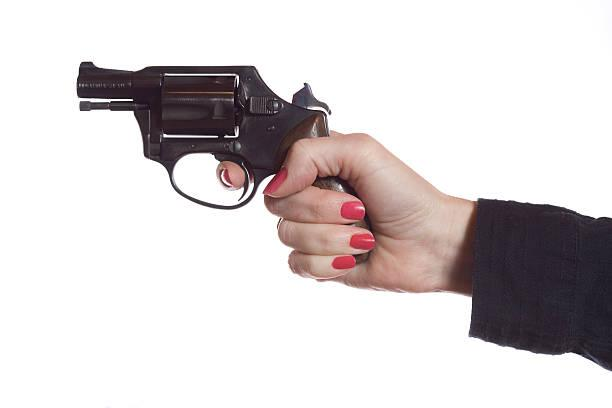weapon: (71, 55, 371, 275)
